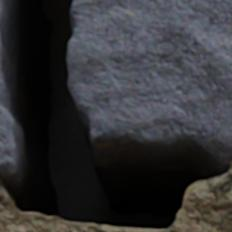broken_brick: (67, 0, 231, 163), (0, 36, 18, 177), (0, 0, 4, 25)
crack: (0, 0, 230, 231)
